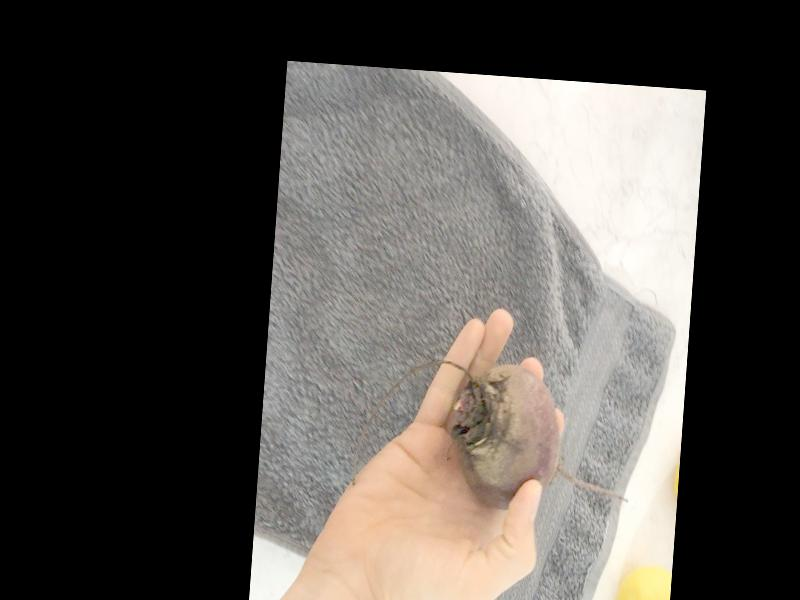Beet: (440, 362, 636, 518)
